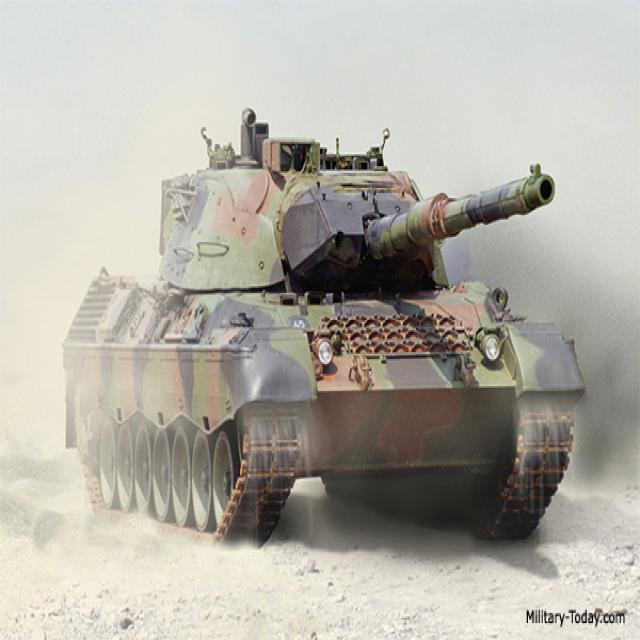Tank: (56, 70, 594, 560)
